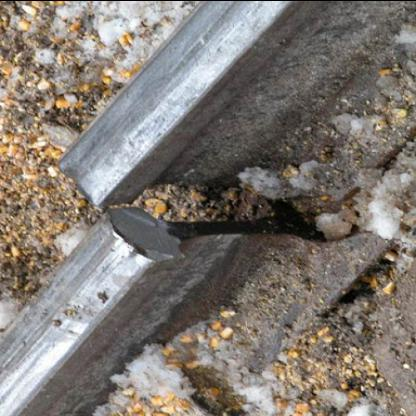Defective: (9, 19, 353, 374)
